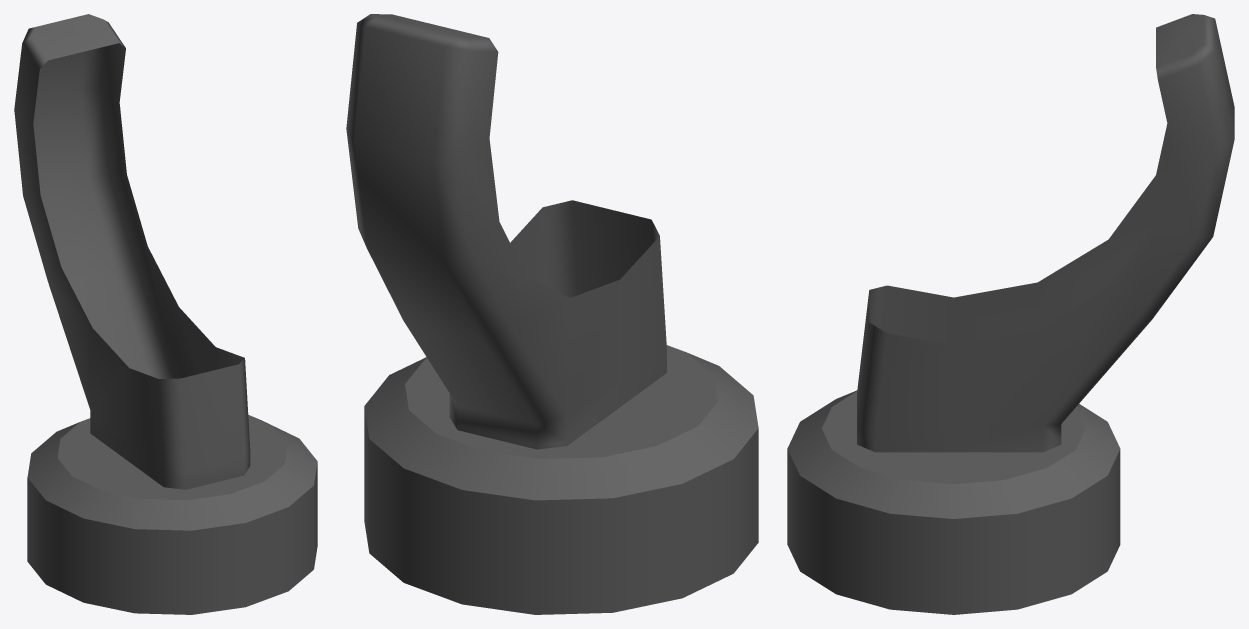
Rendered from Armchair_014_Part_01.fbx.
3 views of the same model, side by side, from view 1: azimuth 30°, elevation 25°; view 2: azimuth 150°, elevation 25°; view 3: azimuth 270°, elevation 25° (orthographic). The views are drawn at different scales.
Visible parts, largest first — view 1: Armchair_014_Part_01; view 2: Armchair_014_Part_01; view 3: Armchair_014_Part_01.
Boxes of the visible parts, x1,y1,x2,y2 form: Armchair_014_Part_01: (14,14,317,614); Armchair_014_Part_01: (346,14,758,614); Armchair_014_Part_01: (787,14,1234,614).
Size of the model in its own units: 32.49 by 43.62 by 55.45.
